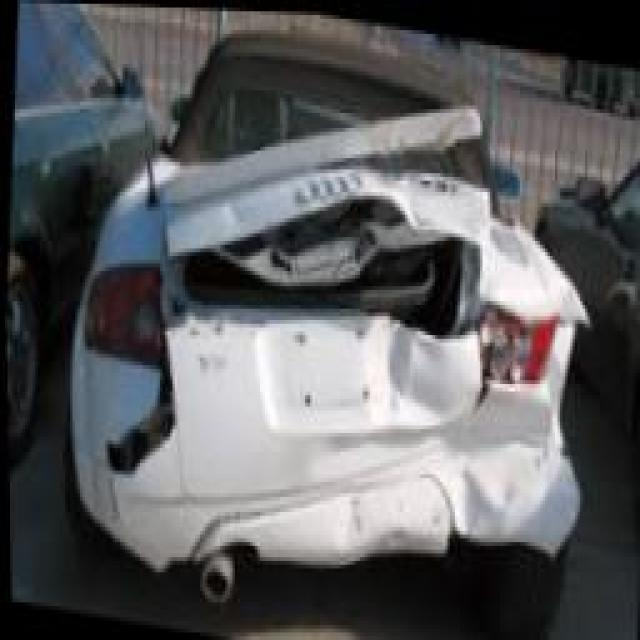Bumper: (65, 321, 581, 580)
Dickey: (165, 105, 555, 340)
Light: (471, 291, 555, 381)
